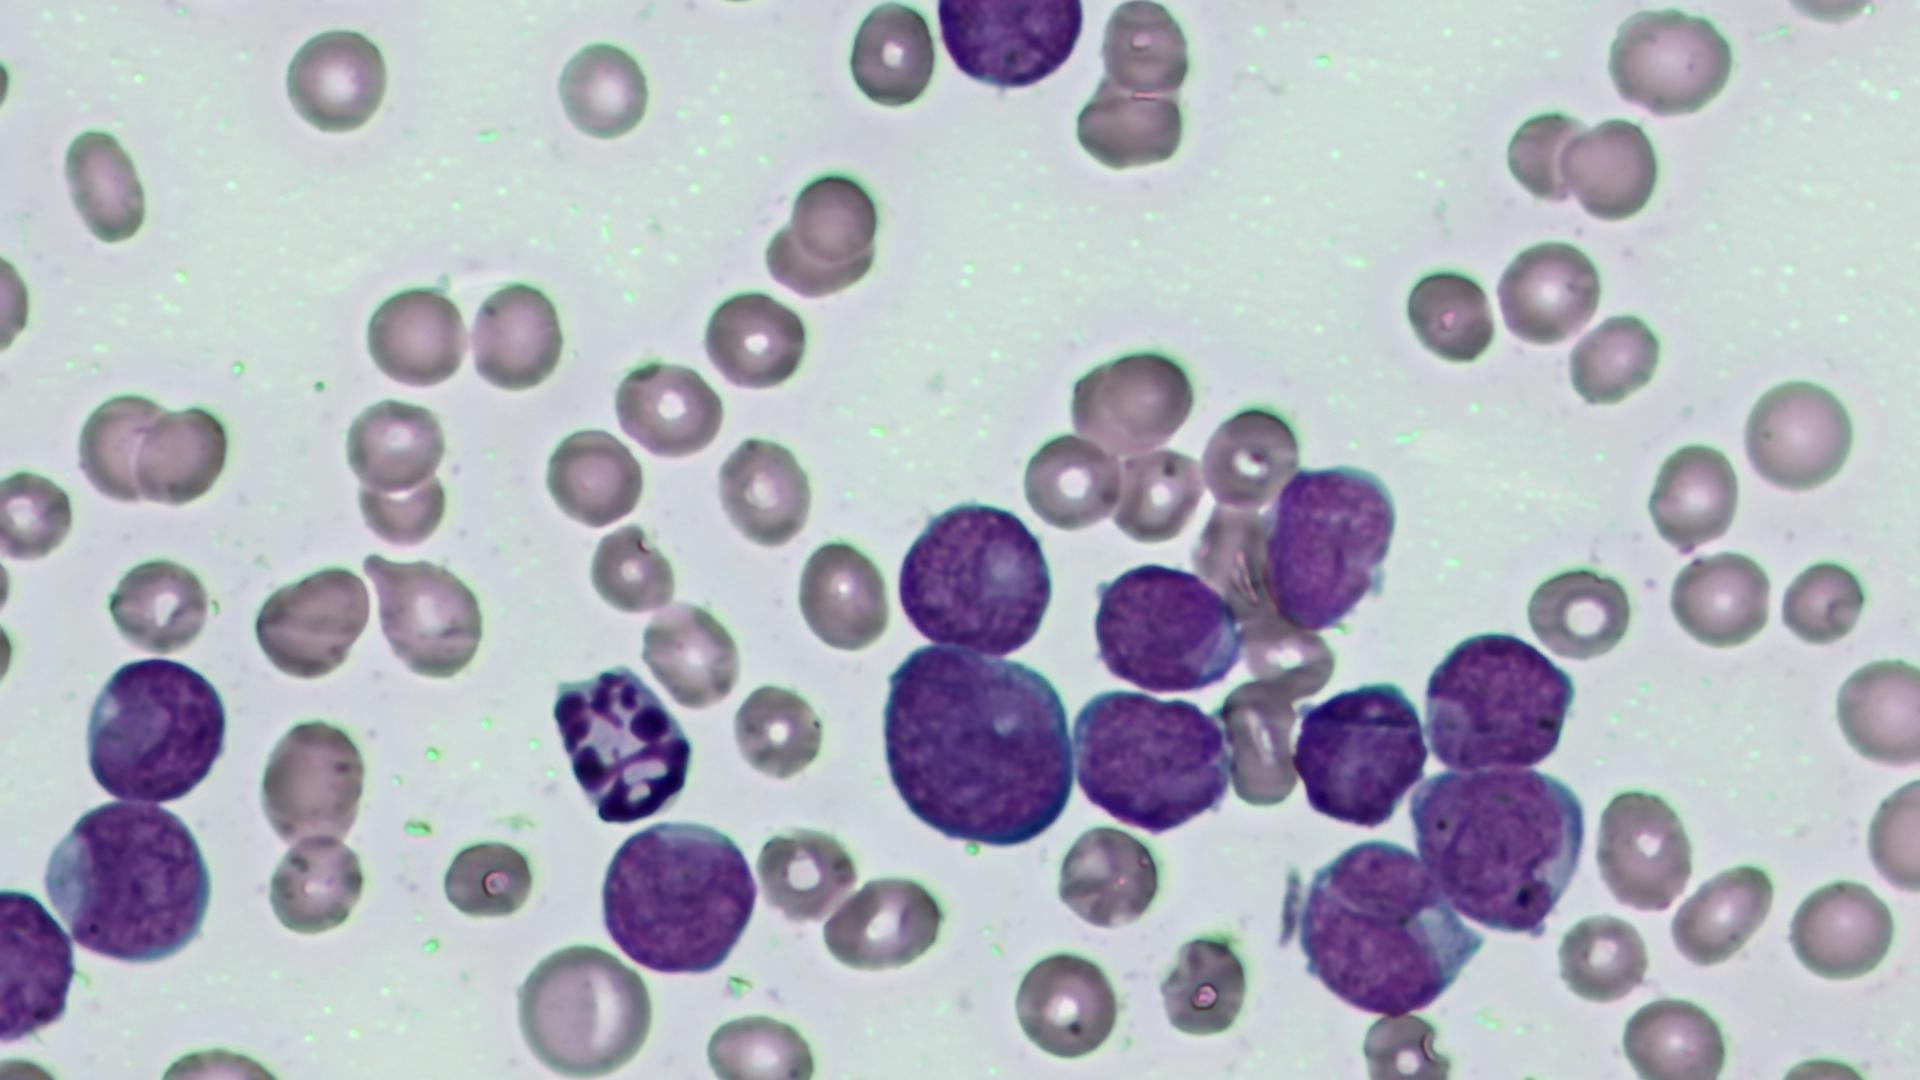RBC: (512, 938, 655, 1073), (1600, 3, 1735, 123), (765, 162, 885, 297), (371, 553, 491, 680), (1738, 371, 1858, 497), (256, 713, 367, 849), (251, 560, 375, 680), (1069, 342, 1196, 458), (280, 18, 394, 141), (1592, 782, 1696, 916), (1491, 232, 1606, 352), (1009, 942, 1121, 1063), (818, 870, 947, 975), (1665, 855, 1778, 975), (553, 32, 659, 154), (360, 280, 469, 396), (791, 534, 893, 657), (1782, 873, 1896, 981), (611, 355, 724, 463), (1052, 824, 1164, 932), (73, 390, 175, 508), (464, 276, 564, 396), (1644, 434, 1743, 555), (700, 285, 808, 396), (1662, 546, 1774, 651), (640, 597, 742, 712), (713, 433, 814, 550), (1197, 400, 1302, 512), (131, 400, 233, 510), (1557, 112, 1659, 224), (102, 550, 211, 653), (262, 835, 371, 938), (1069, 82, 1192, 171), (543, 425, 644, 531), (843, 1, 938, 113), (1022, 430, 1124, 534), (732, 679, 828, 789), (342, 396, 447, 495), (1221, 680, 1304, 806), (1832, 651, 1917, 771), (1108, 444, 1208, 546), (1614, 992, 1727, 1076), (1098, 0, 1193, 100), (587, 520, 682, 618), (1553, 910, 1650, 1006), (1776, 553, 1873, 645), (353, 458, 450, 549), (696, 1010, 822, 1077), (1863, 766, 1920, 903), (0, 462, 71, 563), (1356, 1011, 1451, 1077)
WBC: (872, 641, 1081, 852), (1284, 833, 1482, 1025), (36, 794, 222, 971), (1416, 764, 1594, 934), (886, 491, 1060, 661), (593, 816, 765, 978), (1255, 454, 1408, 634), (1069, 686, 1240, 836), (78, 649, 233, 808), (1422, 624, 1580, 777), (554, 661, 694, 828), (1085, 556, 1247, 698), (1294, 676, 1432, 829), (932, 1, 1095, 96)
